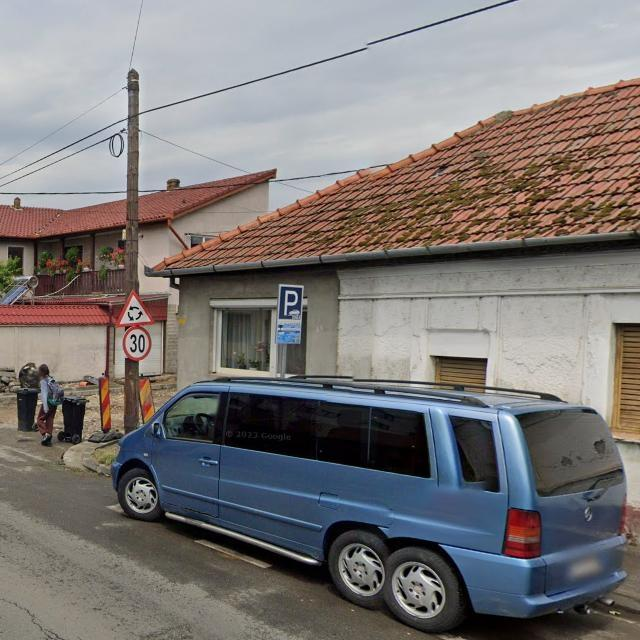forb_speed_over_30: (123, 326, 152, 360)
